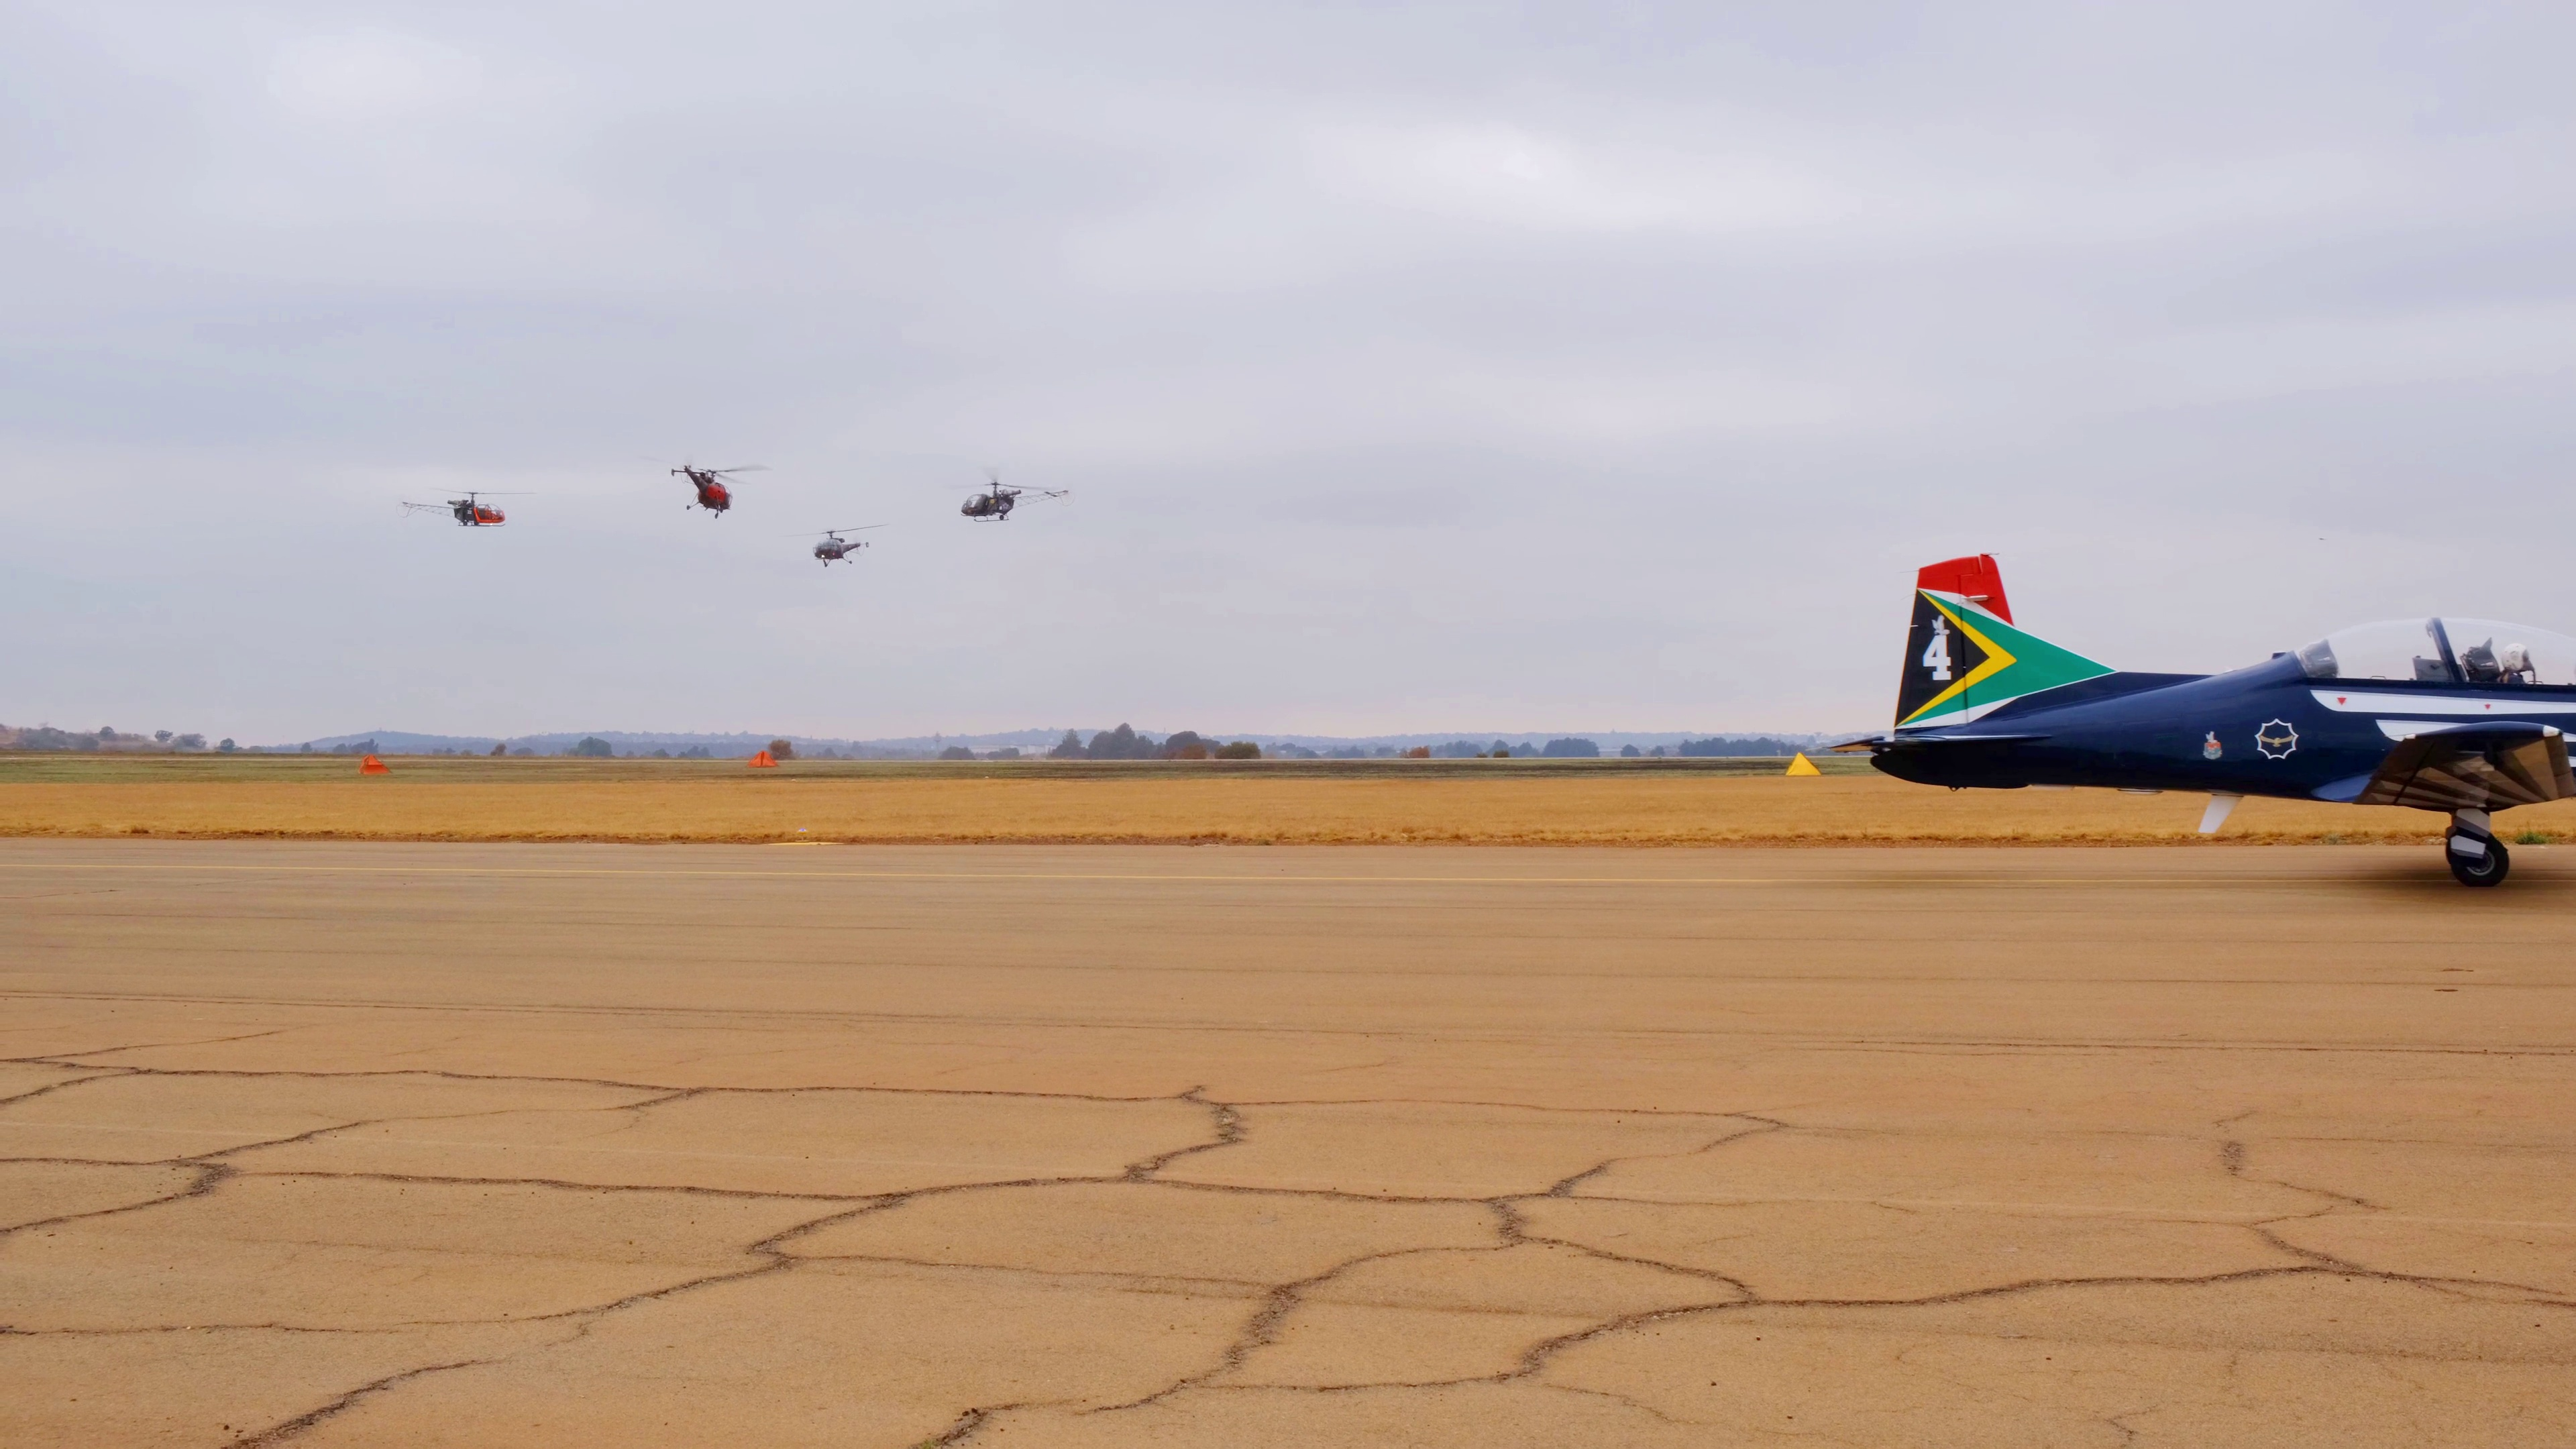heli: (669, 462, 766, 520), (961, 478, 1070, 527), (407, 487, 525, 527), (812, 522, 885, 571)
plane: (1874, 554, 2576, 890)
